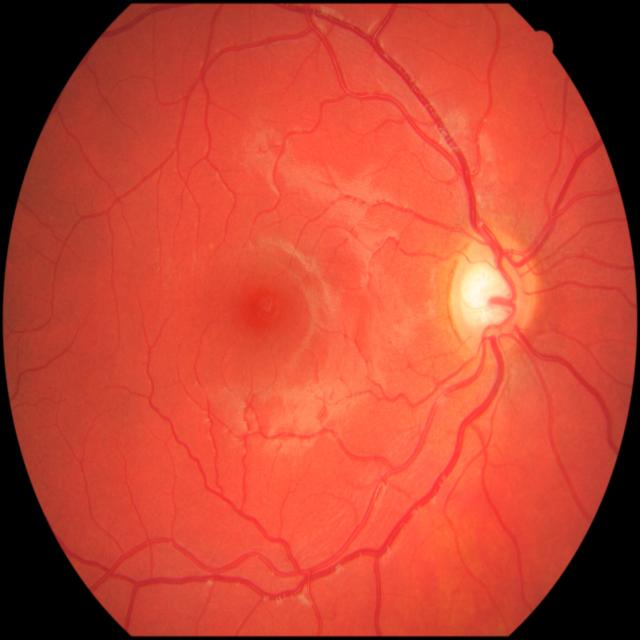OC: (461, 261, 516, 328)
OD: (451, 234, 538, 350)
